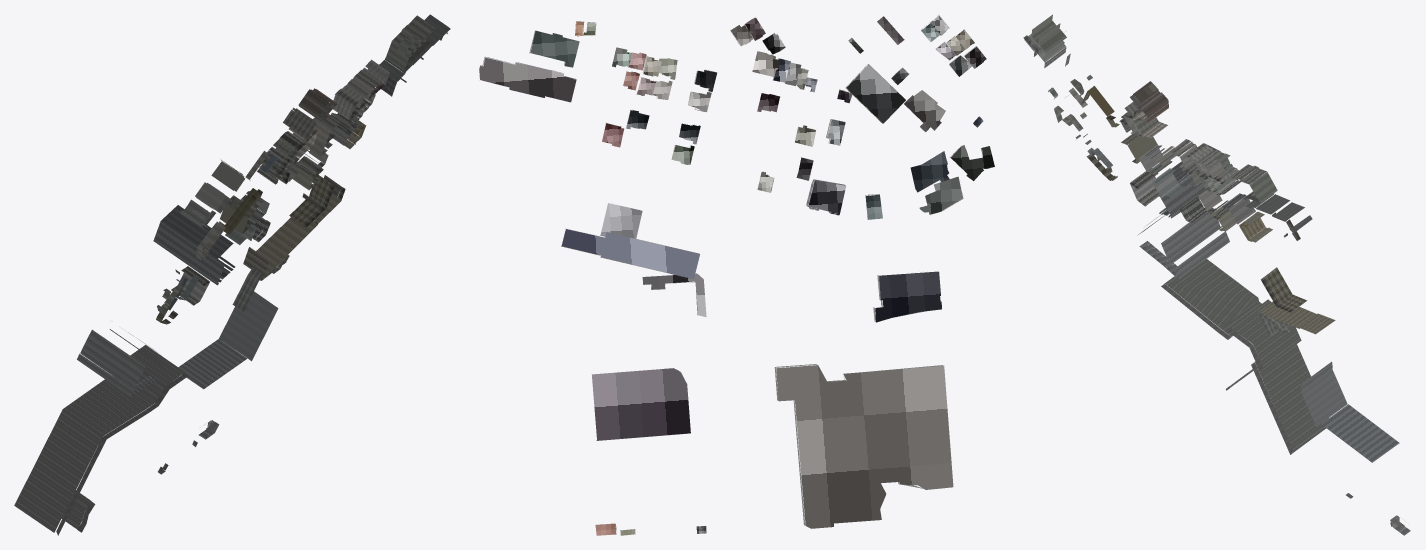
Rendered from tile_LOD3_r3_c7.glb.
3 renders of one model, left to right at view 1: azimuth 30°, elevation 25°; view 2: azimuth 150°, elevation 25°; view 3: azimuth 270°, elevation 25°, orthographic. The views are drawn at different scales.
Bounding box in the file's own units: 351 × 326 × 261.
242 materials, 241 textured.
